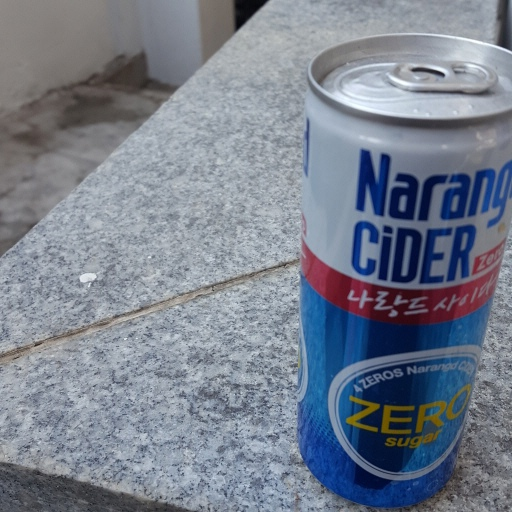Metal_0: (299, 31, 512, 510)
